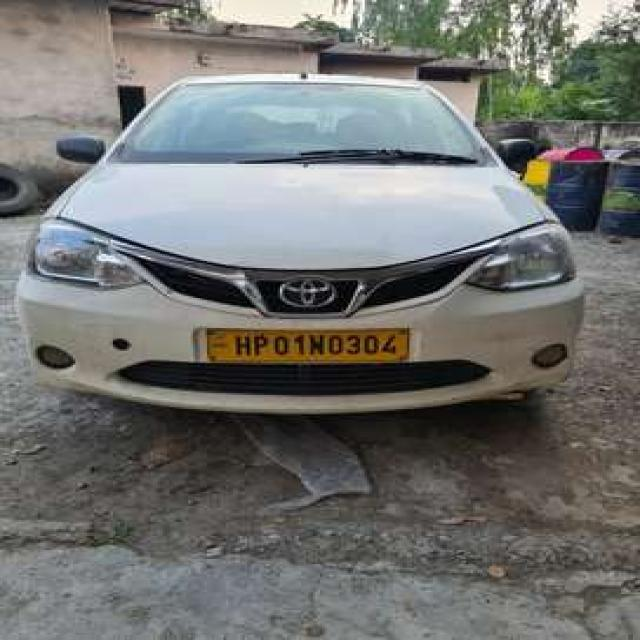licenseplate: (201, 328, 411, 363)
